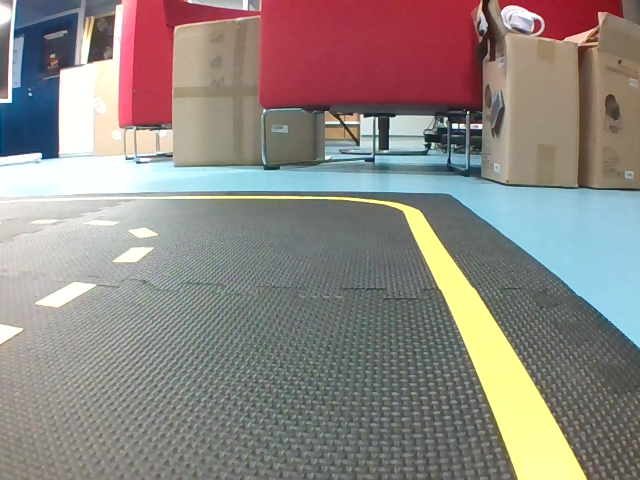stop: (216, 68, 287, 134)
